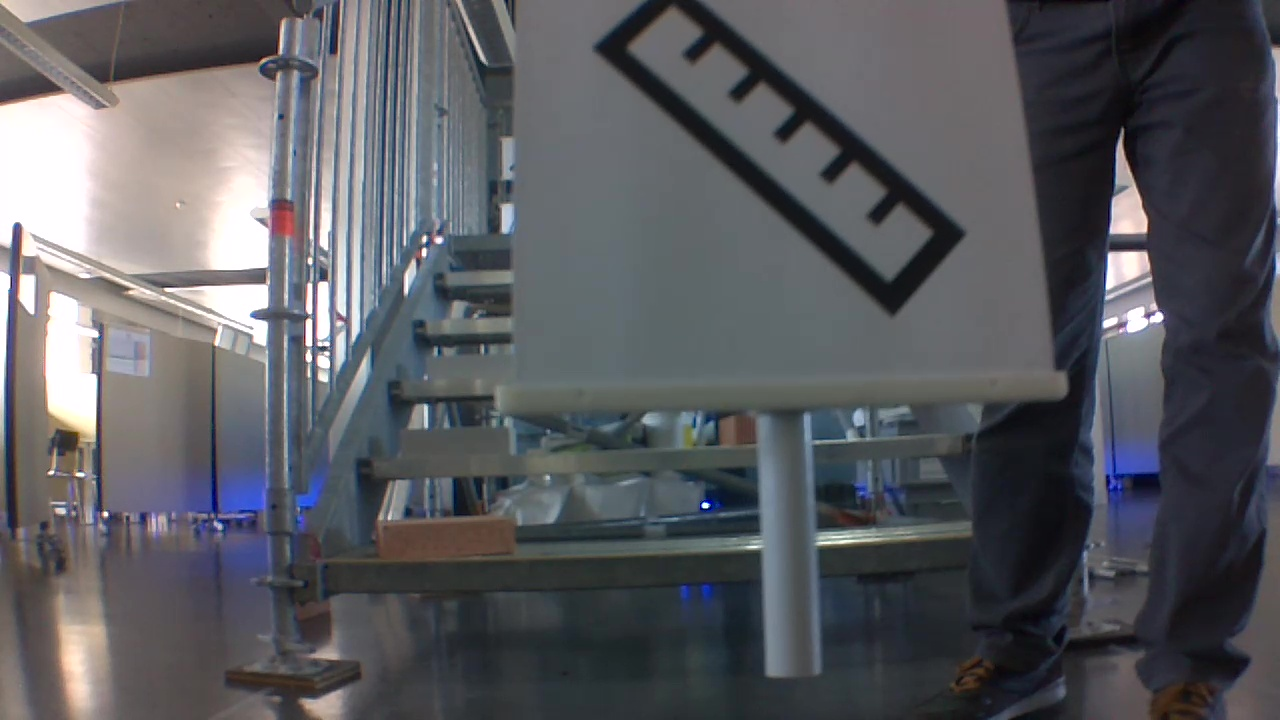brick: (387, 515, 522, 563), (402, 424, 505, 457), (428, 355, 516, 384)
edge: (311, 532, 974, 599), (362, 433, 965, 488)
ruler: (591, 0, 970, 340)
